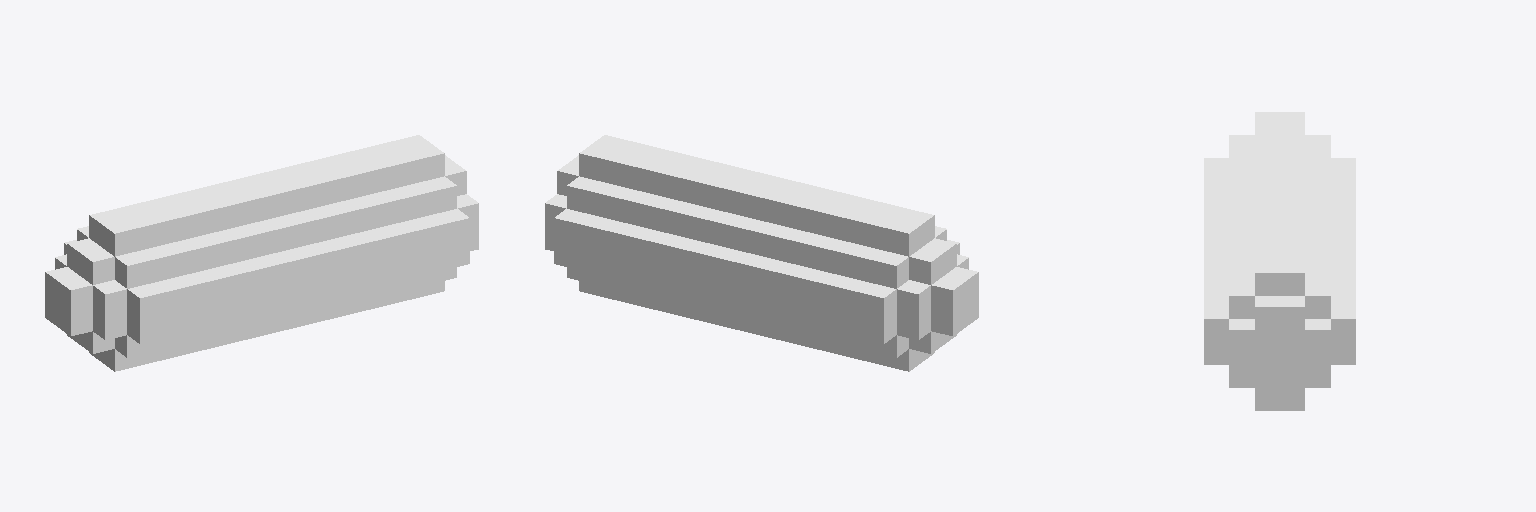
File: Projectile_Carro_Futuro.obj
The picture shows the model from 3 angles: view 1: azimuth 30°, elevation 25°; view 2: azimuth 150°, elevation 25°; view 3: azimuth 270°, elevation 25°; orthographic projection.
Visible parts, largest first — view 1: object 1; view 2: object 1; view 3: object 1.
Part boxes in pixels (left/top/right/bottom): object 1: left=45, top=135, right=478, bottom=371; object 1: left=545, top=135, right=978, bottom=371; object 1: left=1204, top=112, right=1355, bottom=410.
Size of the model in its own units: 1.8 by 0.6 by 0.6.